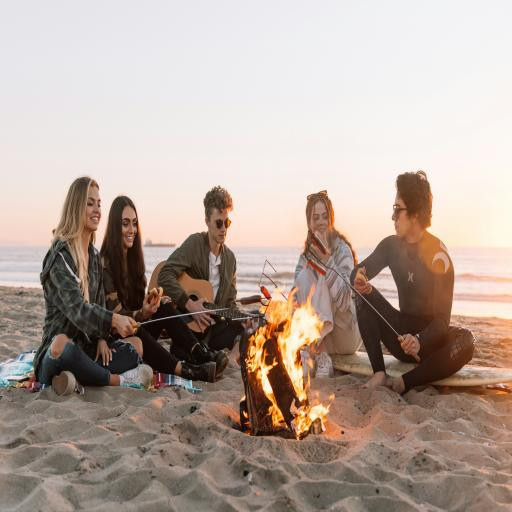campfire: (230, 278, 345, 458)
